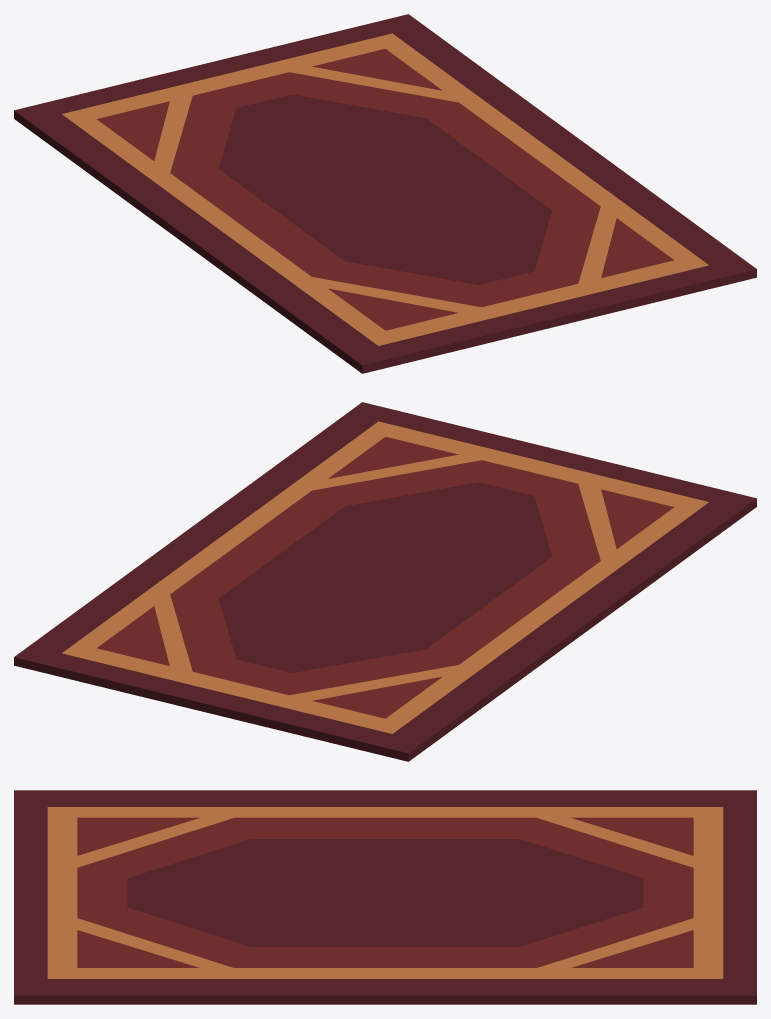
Rendered from Card_01.fbx.
The picture shows the model from 3 angles, top to bottom: view 1: azimuth 30°, elevation 25°; view 2: azimuth 150°, elevation 25°; view 3: azimuth 270°, elevation 25°; orthographic projection. The views are drawn at different scales.
Visible parts, largest first — view 1: Card_01; view 2: Card_01; view 3: Card_01.
Part boxes in pixels (<box>): Card_01: <box>14,14,756,373</box>; Card_01: <box>14,402,756,761</box>; Card_01: <box>14,790,756,1004</box>.
Bounding box in the file's own units: 0.1076 × 0.00222 × 0.1646.
